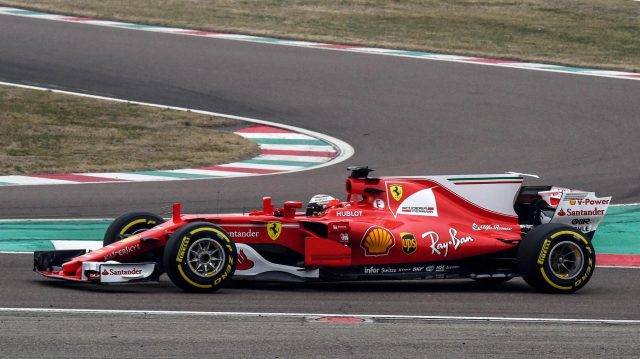f1_car: (28, 158, 618, 307)
